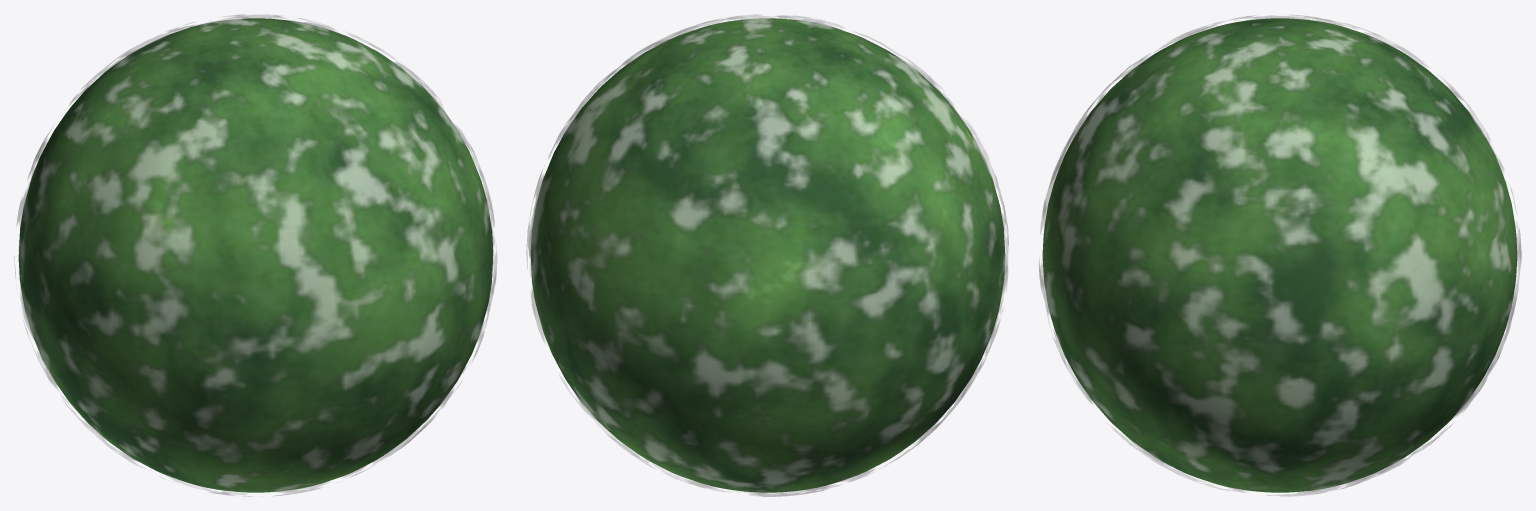
File: planet_acid_001.glb
3 renders of one model, left to right at view 1: azimuth 30°, elevation 25°; view 2: azimuth 150°, elevation 25°; view 3: azimuth 270°, elevation 25°, orthographic.
Visible parts, largest first — view 1: Planet_acid_001, Clouds_acid_001; view 2: Planet_acid_001, Clouds_acid_001; view 3: Planet_acid_001, Clouds_acid_001.
Boxes of the visible parts, x1=… form: Planet_acid_001: x1=18, y1=18, x2=493, y2=492; Clouds_acid_001: x1=14, y1=14, x2=497, y2=496; Planet_acid_001: x1=530, y1=18, x2=1005, y2=492; Clouds_acid_001: x1=526, y1=14, x2=1008, y2=496; Planet_acid_001: x1=1042, y1=18, x2=1517, y2=492; Clouds_acid_001: x1=1038, y1=15, x2=1521, y2=496.
Bounding box in the file's own units: 2.04 × 2.04 × 2.04.
Materials: 2 (2 with a texture image).
